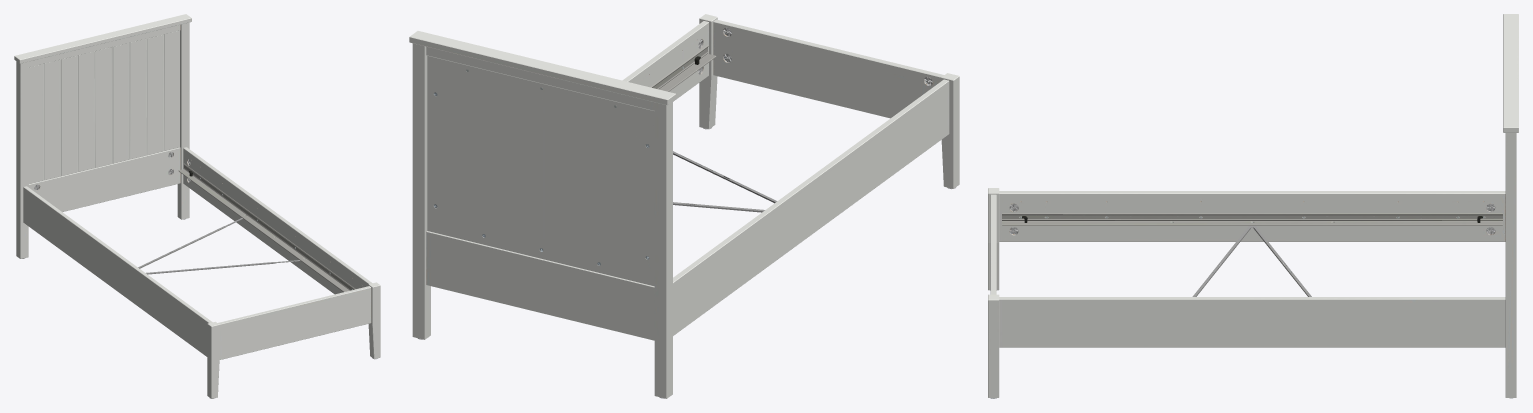
The model's file is bed_single_80608103.glb.
3 renders of one model, left to right at view 1: azimuth 30°, elevation 25°; view 2: azimuth 150°, elevation 25°; view 3: azimuth 270°, elevation 25°, orthographic. The views are drawn at different scales.
Parts seen in each view (by area): view 1: ASY_ART_80608103_S01_NV01; view 2: ASY_ART_80608103_S01_NV01; view 3: ASY_ART_80608103_S01_NV01.
Part boxes in pixels (left/top/right/bottom): ASY_ART_80608103_S01_NV01: left=14, top=14, right=380, bottom=398; ASY_ART_80608103_S01_NV01: left=409, top=14, right=959, bottom=398; ASY_ART_80608103_S01_NV01: left=988, top=14, right=1518, bottom=398.
Size of the model in its own units: 1.01 by 1.12 by 1.98.
Materials: 1 (1 with a texture image).
